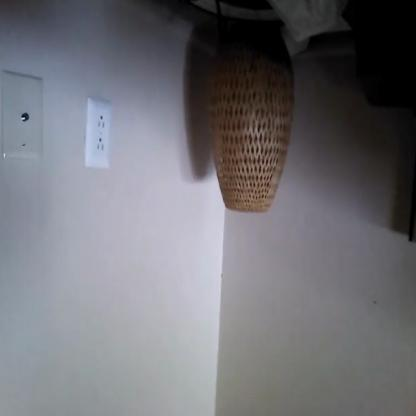OUTLET: (86, 99, 110, 169)
